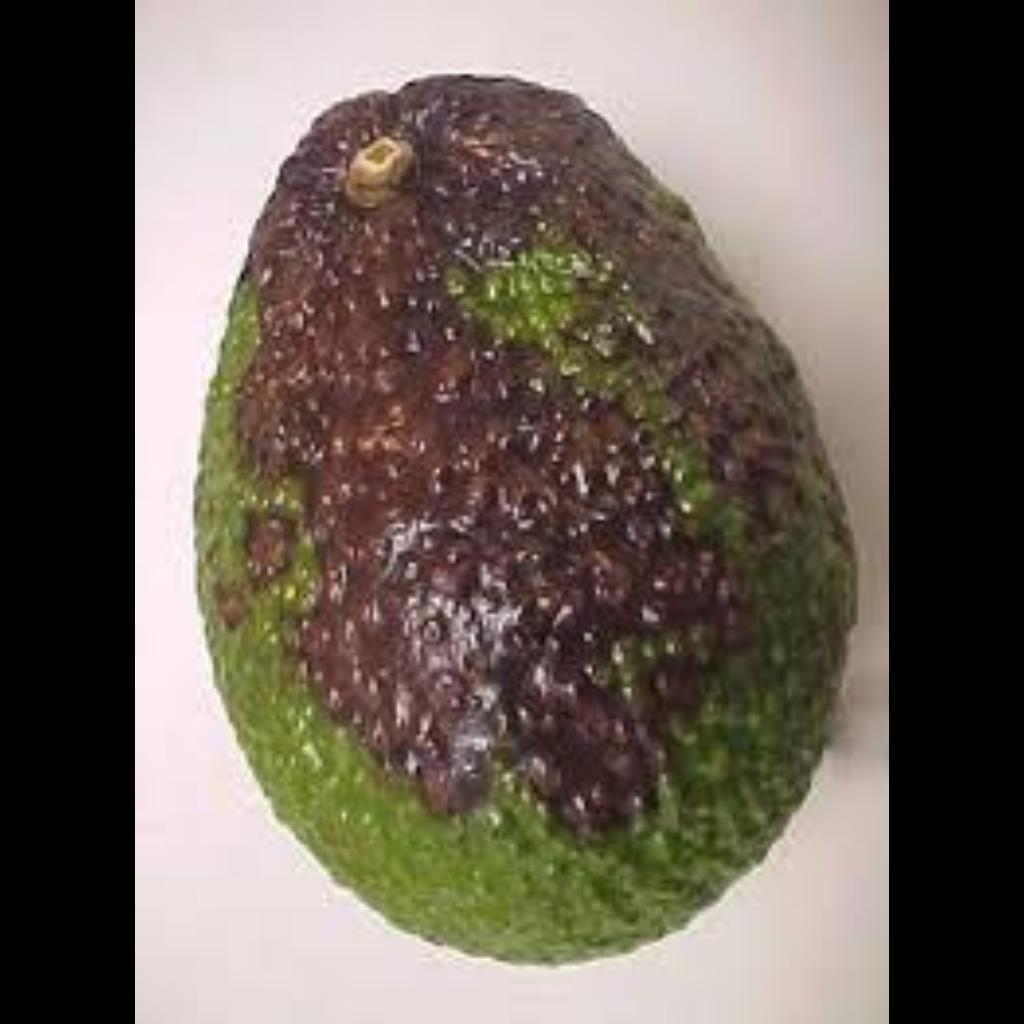cercospora_spot: (166, 74, 878, 958)
